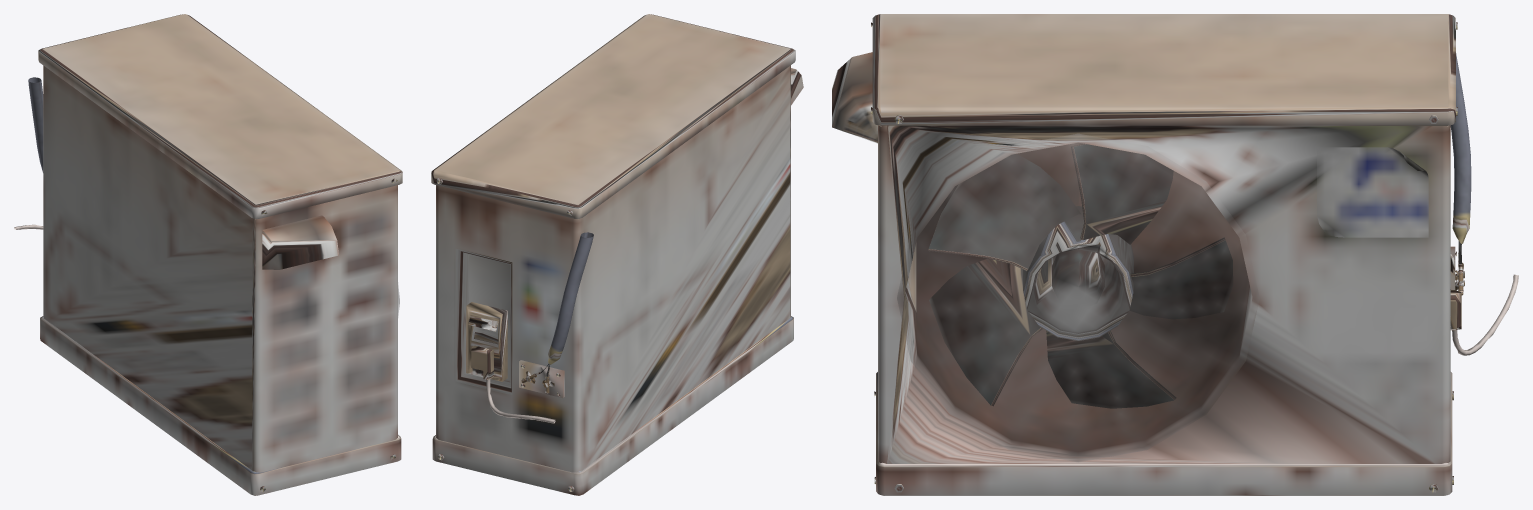
File: air_conditioner.glb
3 renders of one model, left to right at view 1: azimuth 30°, elevation 25°; view 2: azimuth 150°, elevation 25°; view 3: azimuth 270°, elevation 25°, orthographic. The views are drawn at different scales.
Visible parts, largest first — view 1: body; view 2: body; view 3: body.
Part boxes in pixels (left/top/right/bottom): body: left=14, top=14, right=402, bottom=495; body: left=431, top=14, right=803, bottom=495; body: left=832, top=14, right=1518, bottom=495.
Bounding box in the file's own units: 0.4089 × 0.65 × 1.04.
Materials: 1 (1 with a texture image).
